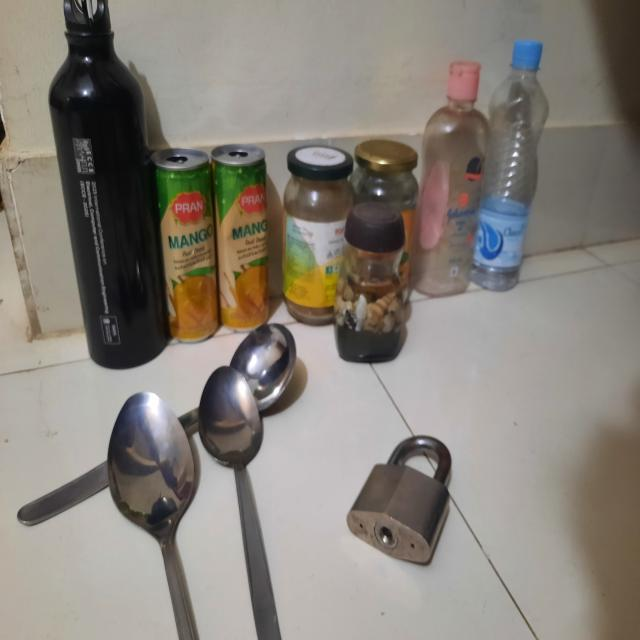Glass: (289, 148, 425, 356)
Metal: (58, 323, 303, 640), (335, 418, 461, 570)
Plastics: (429, 36, 544, 300)
can: (45, 0, 280, 339)
